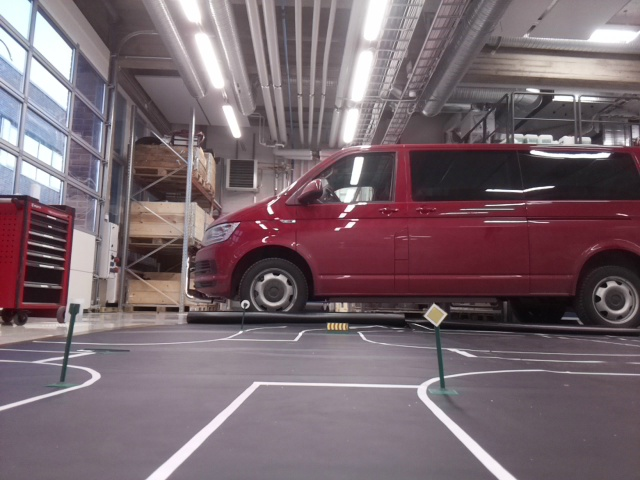Priority: (424, 302, 446, 325)
